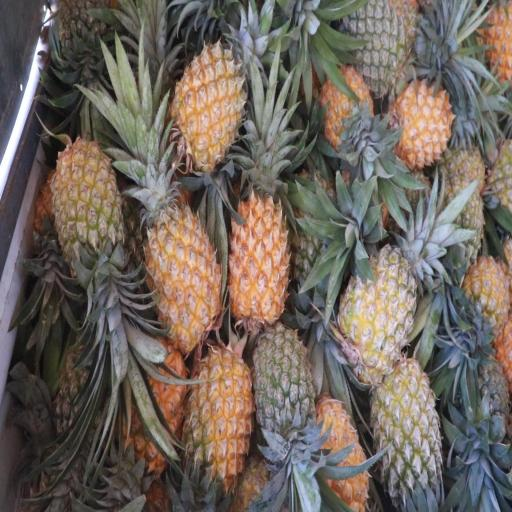------------------------------: (342, 248, 416, 378), (372, 364, 441, 500)
Pineapple - v8 v1: (145, 182, 220, 350), (54, 142, 121, 284), (228, 186, 290, 334), (173, 46, 246, 171), (187, 347, 252, 486), (122, 348, 185, 468), (308, 402, 366, 508), (395, 79, 454, 165), (319, 72, 375, 158), (463, 256, 508, 350)
